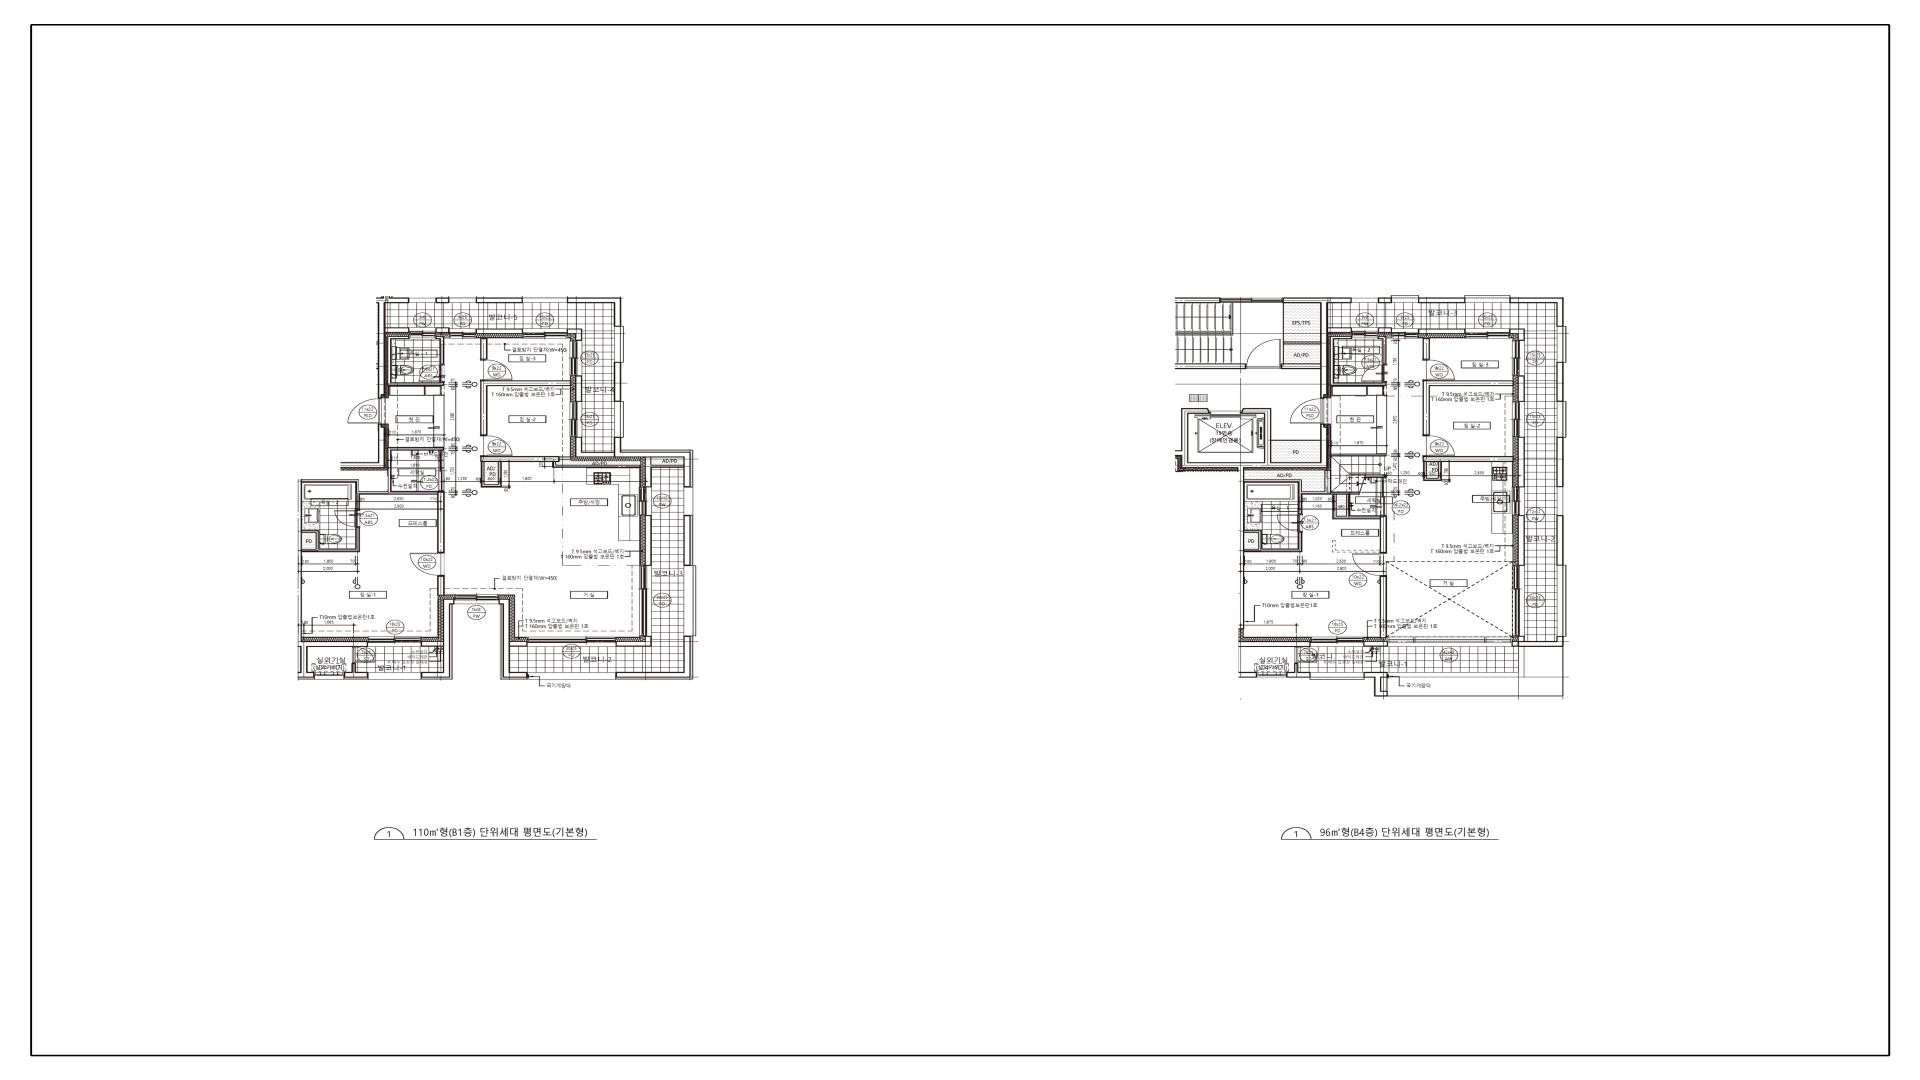door: (1290, 398, 1324, 423), (348, 398, 381, 423), (410, 553, 444, 576), (1353, 553, 1387, 575), (480, 434, 513, 456), (480, 359, 513, 381), (1423, 360, 1455, 381), (1423, 435, 1455, 456), (1276, 513, 1303, 533), (1361, 364, 1387, 382), (334, 509, 360, 527), (418, 364, 444, 382), (1381, 477, 1387, 516)
wall: (1175, 407, 1328, 629), (302, 447, 444, 553), (298, 479, 368, 678), (1245, 471, 1387, 553), (1282, 298, 1352, 398), (480, 456, 641, 488), (1423, 380, 1514, 435), (480, 380, 571, 435), (615, 438, 691, 487), (616, 636, 691, 678), (378, 298, 409, 398), (388, 336, 444, 386), (1331, 336, 1387, 386), (1238, 641, 1311, 678), (422, 599, 454, 678), (498, 599, 527, 678), (340, 423, 385, 468), (567, 298, 621, 327), (1511, 298, 1564, 326), (302, 527, 360, 553), (1245, 530, 1302, 553), (645, 458, 683, 487), (575, 438, 615, 458), (1364, 673, 1387, 696), (1379, 575, 1387, 638), (1423, 456, 1514, 462), (1519, 637, 1564, 647), (683, 516, 691, 566), (1556, 516, 1564, 566), (1423, 462, 1443, 481), (1556, 438, 1564, 487), (616, 637, 651, 647), (1175, 364, 1246, 369), (484, 462, 498, 485), (344, 663, 368, 678), (1286, 663, 1309, 678), (645, 516, 651, 566), (1518, 516, 1524, 566), (1518, 436, 1524, 487), (1175, 297, 1221, 303), (1556, 363, 1564, 401), (615, 363, 621, 402), (1378, 336, 1387, 364), (476, 328, 522, 334), (476, 298, 522, 303), (1419, 298, 1465, 303), (1419, 328, 1465, 334), (436, 336, 444, 364), (575, 376, 583, 401), (567, 328, 583, 340), (1510, 328, 1524, 340), (480, 338, 488, 359), (1518, 376, 1524, 401), (1364, 641, 1387, 647), (1332, 454, 1387, 456), (1513, 636, 1524, 647), (422, 641, 443, 647), (1423, 339, 1429, 360), (438, 576, 444, 596), (385, 327, 409, 332), (1328, 327, 1352, 332), (510, 641, 527, 647), (435, 327, 450, 332), (435, 298, 450, 303), (1378, 298, 1391, 303), (1378, 327, 1391, 332)
window: (1387, 647, 1524, 678), (1387, 637, 1513, 647), (527, 637, 616, 647), (640, 566, 651, 637), (1513, 566, 1524, 636), (684, 566, 696, 636), (1557, 564, 1567, 637), (527, 673, 616, 679), (368, 637, 422, 647), (1311, 637, 1364, 647), (570, 401, 583, 438), (1465, 328, 1510, 339), (522, 328, 567, 339), (570, 340, 583, 376), (1513, 401, 1524, 438), (368, 673, 422, 680), (1309, 673, 1364, 680), (1513, 340, 1524, 376), (454, 595, 498, 604), (638, 487, 651, 516), (1465, 295, 1511, 303), (1513, 487, 1524, 516), (1557, 401, 1567, 438), (1557, 326, 1567, 363), (615, 402, 624, 438), (615, 327, 624, 363), (409, 327, 436, 339), (1221, 298, 1283, 303), (1391, 328, 1419, 339), (1352, 327, 1378, 338), (450, 328, 476, 339), (684, 487, 694, 516), (438, 451, 444, 491), (314, 673, 344, 680), (522, 298, 567, 303), (1391, 295, 1419, 303), (1257, 673, 1286, 678), (1557, 487, 1563, 516), (409, 298, 436, 303), (450, 298, 476, 303), (1352, 298, 1378, 303)
